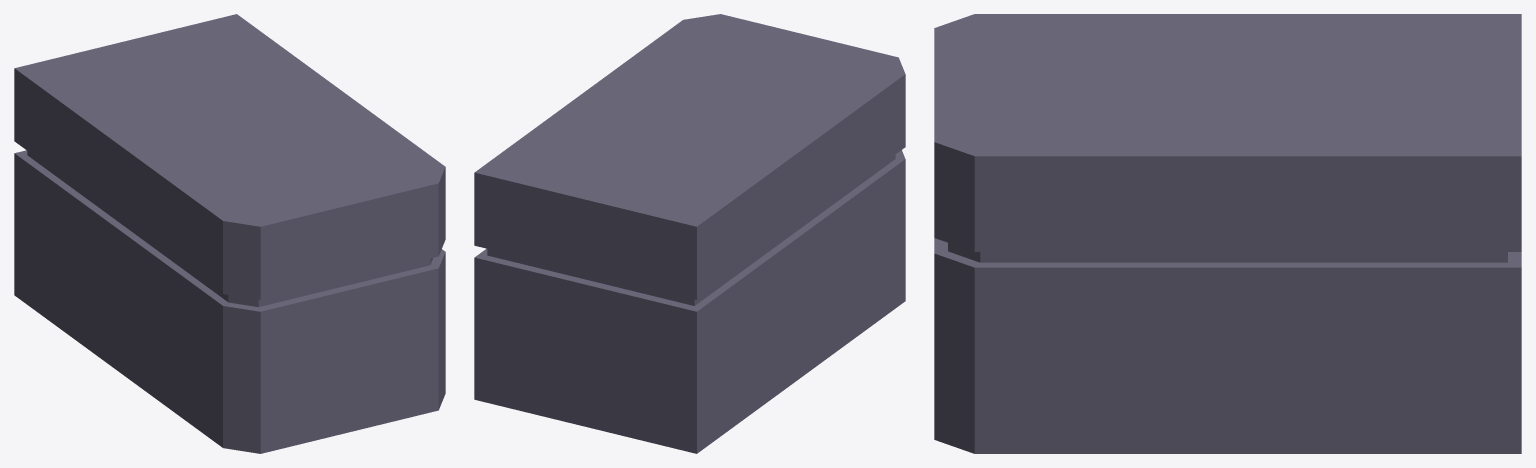
The picture shows the model from 3 angles, left to right: view 1: azimuth 30°, elevation 25°; view 2: azimuth 150°, elevation 25°; view 3: azimuth 270°, elevation 25°; orthographic projection. The views are drawn at different scales.
Parts seen in each view (by area): view 1: pasted__pasted__pCube100; view 2: pasted__pasted__pCube100; view 3: pasted__pasted__pCube100.
Boxes of the visible parts, <box> form: pasted__pasted__pCube100: <box>14,14,445,453</box>; pasted__pasted__pCube100: <box>474,14,905,453</box>; pasted__pasted__pCube100: <box>934,14,1521,453</box>.
Size of the model in its own units: 3.42 by 3.34 by 5.97.
